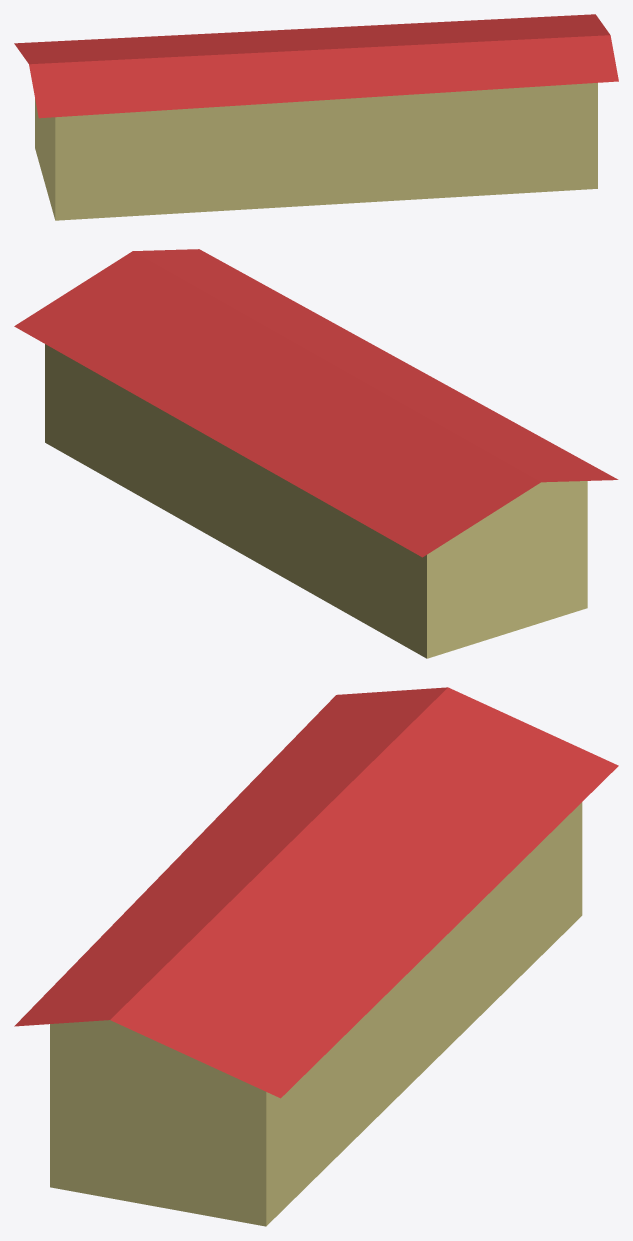
3 views of the same model, one above another, from view 1: azimuth 30°, elevation 25°; view 2: azimuth 150°, elevation 25°; view 3: azimuth 270°, elevation 25° (orthographic). The views are drawn at different scales.
Bounding box in the file's own units: 32.68 × 21.76 × 7.58.
